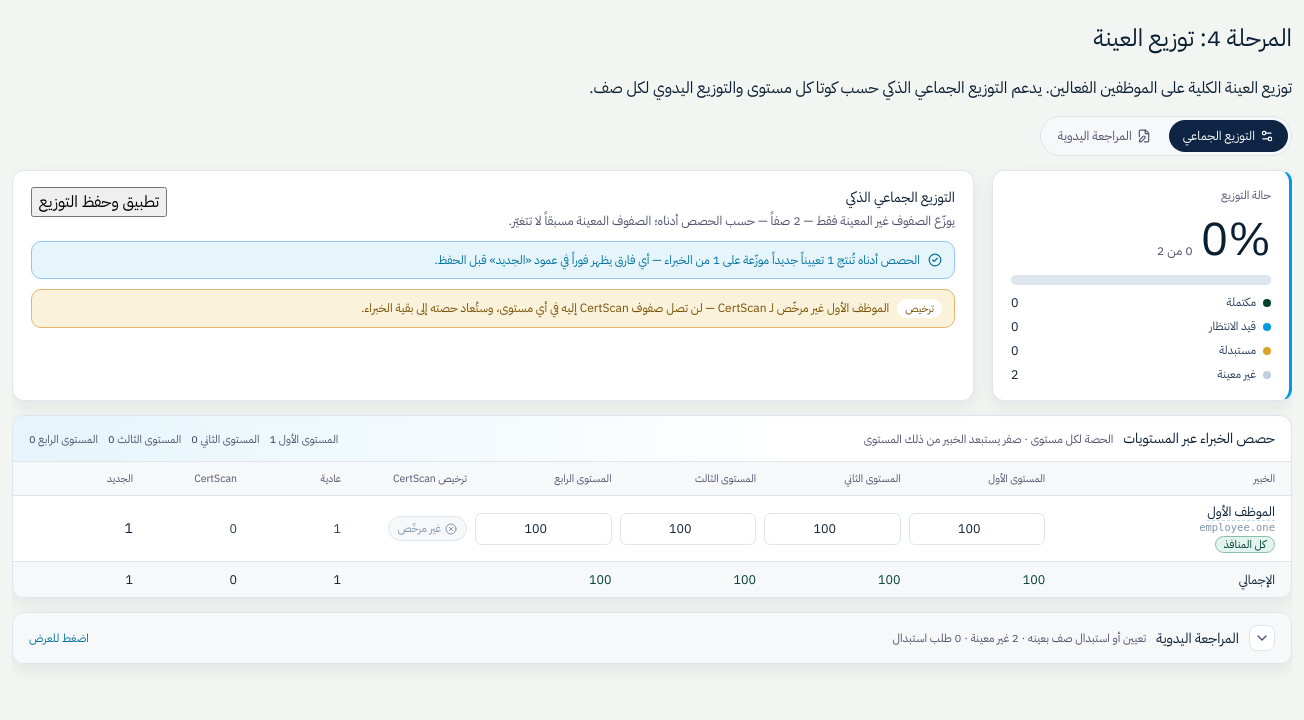
Scenario: PhaseFourDistribution — unmappable stage rows are reported (T-14) › warns with the skipped count and the stage involved, and still assigns the mappable rows
Click the button "تطبيق وحفظ التوزيع" at (99, 202), box [31,187,167,217]
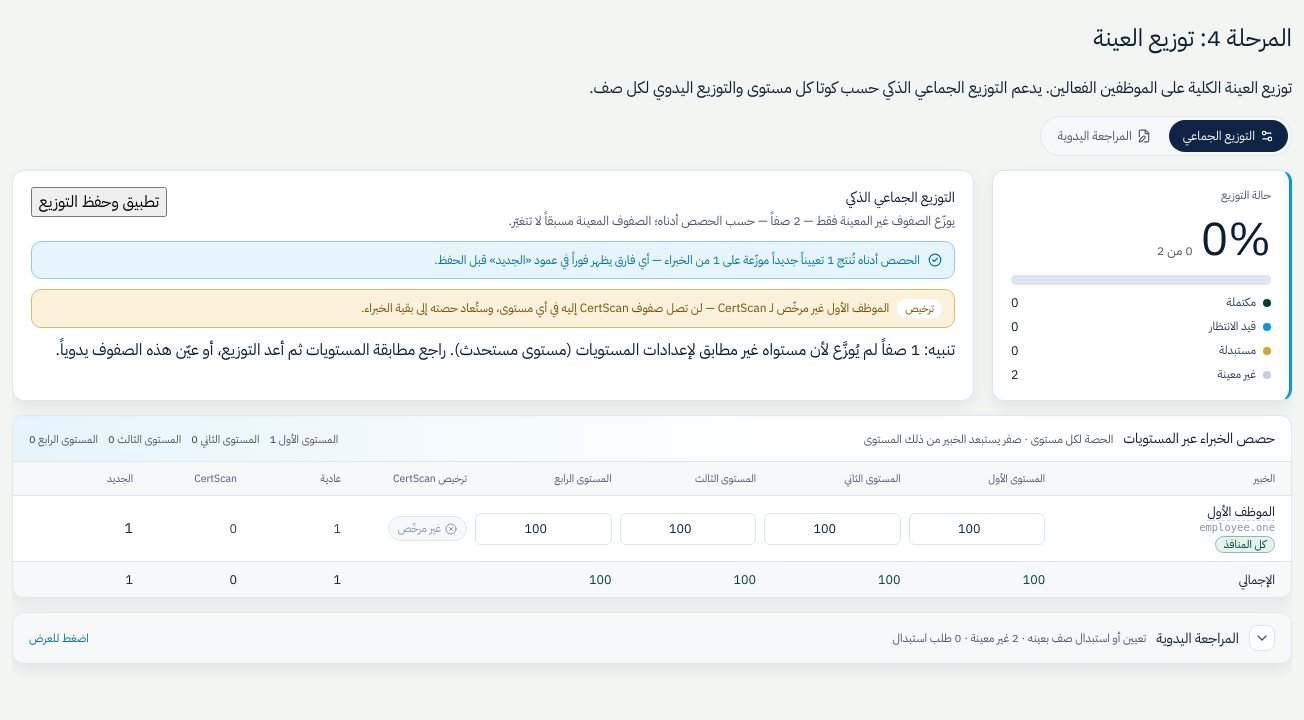
Now the text "لم يُوزَّع" shows "1", box [56,338,955,362]
Now the text "لم يُوزَّع" shows "مستوى مستحدث", box [56,338,955,362]
